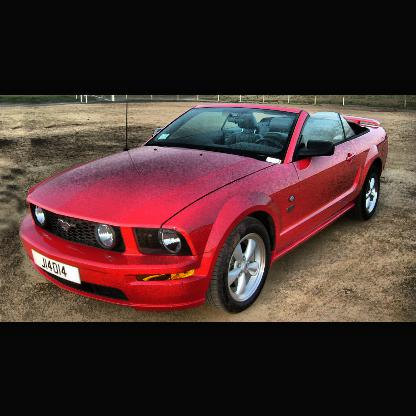Ford Mustang Convertible 2007: (19, 101, 389, 315)
